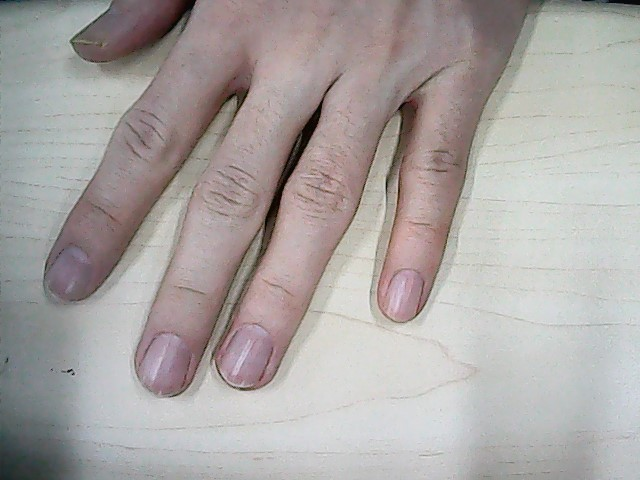nail: (218, 323, 273, 393), (139, 325, 189, 396), (44, 245, 91, 302), (384, 268, 424, 325), (67, 10, 123, 46)
